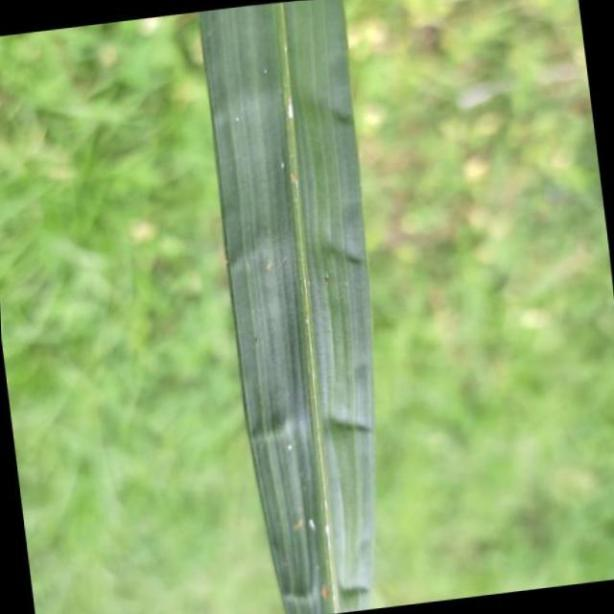Boron: (201, 0, 376, 614)
